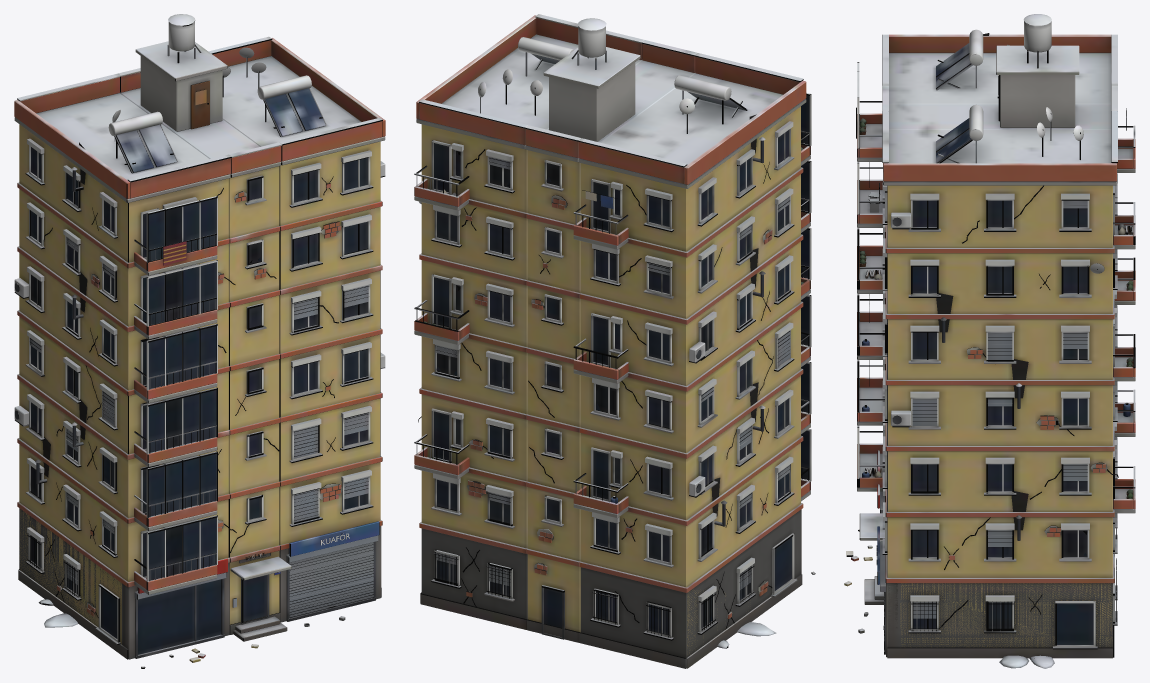
Rendered from bld_apt_yellow_6.glb.
3 views of the same model, side by side, from view 1: azimuth 30°, elevation 25°; view 2: azimuth 150°, elevation 25°; view 3: azimuth 270°, elevation 25° (orthographic). The views are drawn at different scales.
Visible parts, largest first — view 1: bld_apt_yellow_6; view 2: bld_apt_yellow_6; view 3: bld_apt_yellow_6.
Boxes of the visible parts, bbox=[...] form: bld_apt_yellow_6: bbox=[14, 14, 385, 668]; bld_apt_yellow_6: bbox=[414, 14, 815, 668]; bld_apt_yellow_6: bbox=[844, 14, 1135, 668].
Bounding box in the file's own units: 14.48 × 25.36 × 11.61.
Materials: 1 (1 with a texture image).
